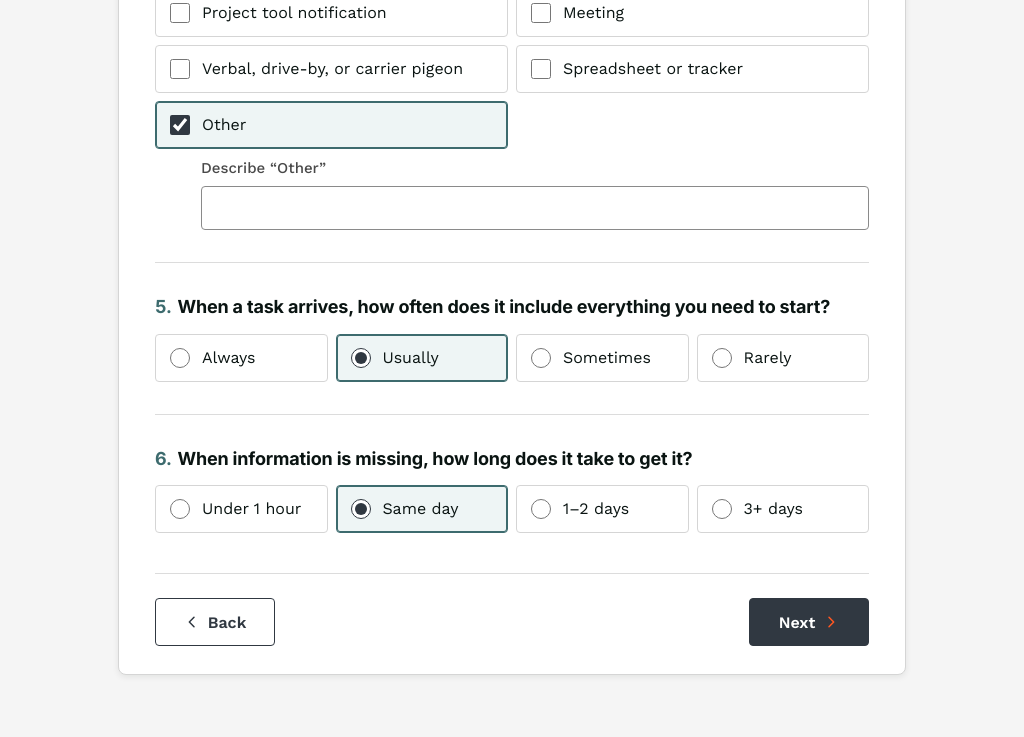
Test case: required questions › requires text for the Other option
(page scrolled)
Click the button "Next" at [809, 622], box [749, 598, 869, 646]
(page scrolled)
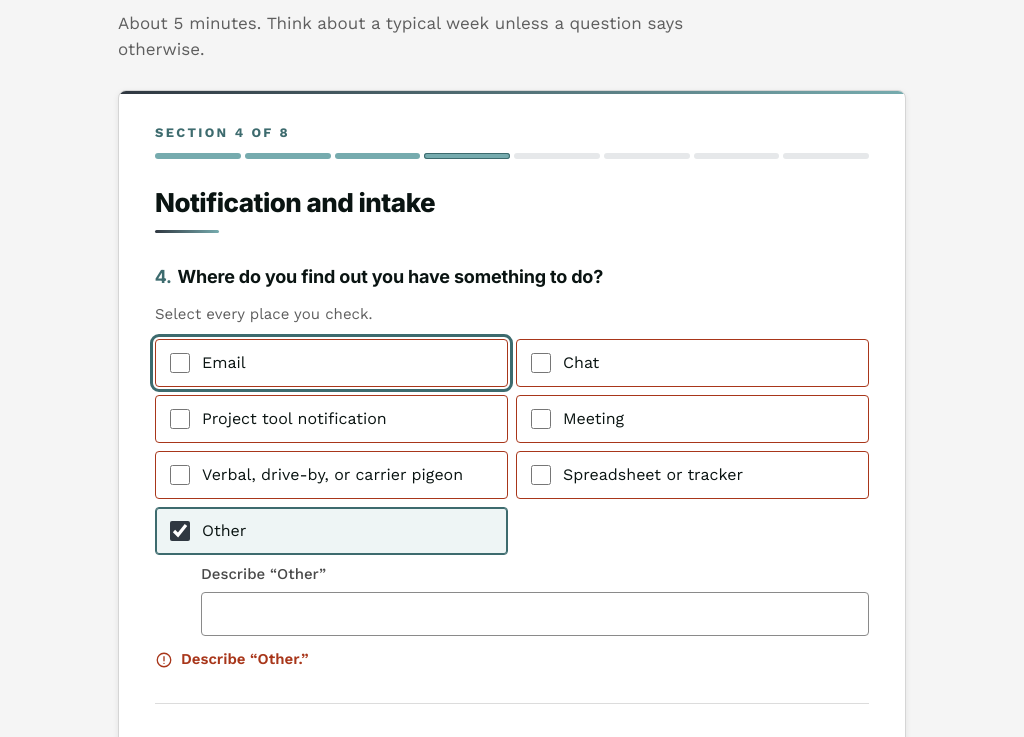
Result: the text "Describe “Other.”" is shown at [155, 650, 308, 669]
Type "Jira" into the field labelled "Describe “Other”" at [535, 614], box [201, 592, 869, 636]
(page scrolled)
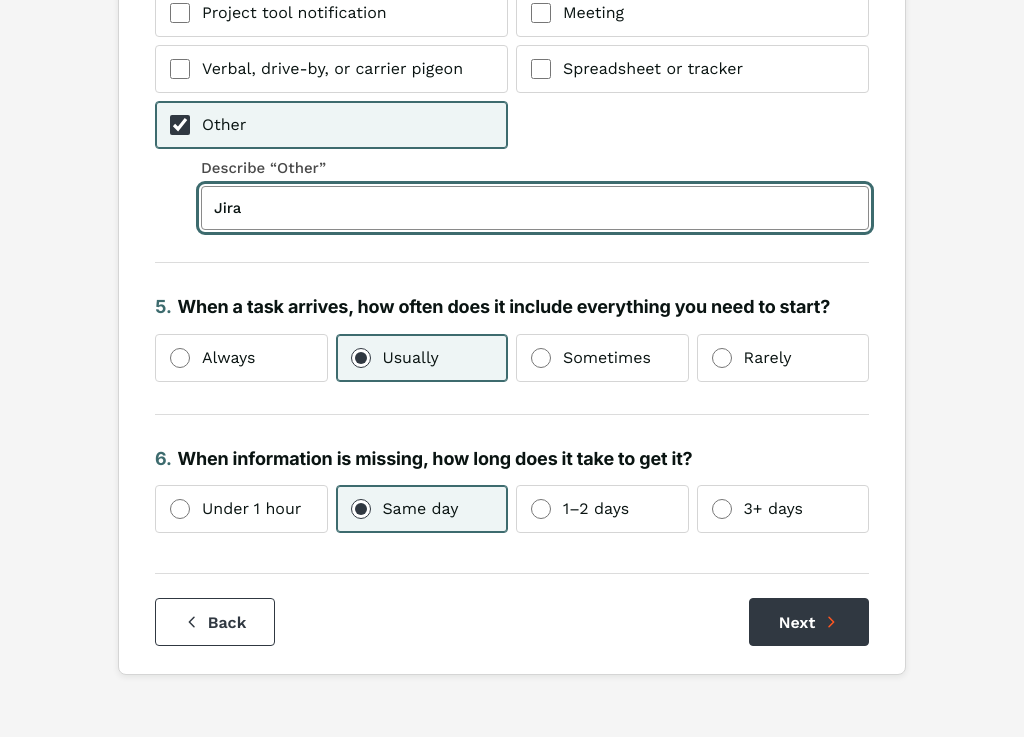
Click the button "Next" at [809, 622], box [749, 598, 869, 646]
(page scrolled)
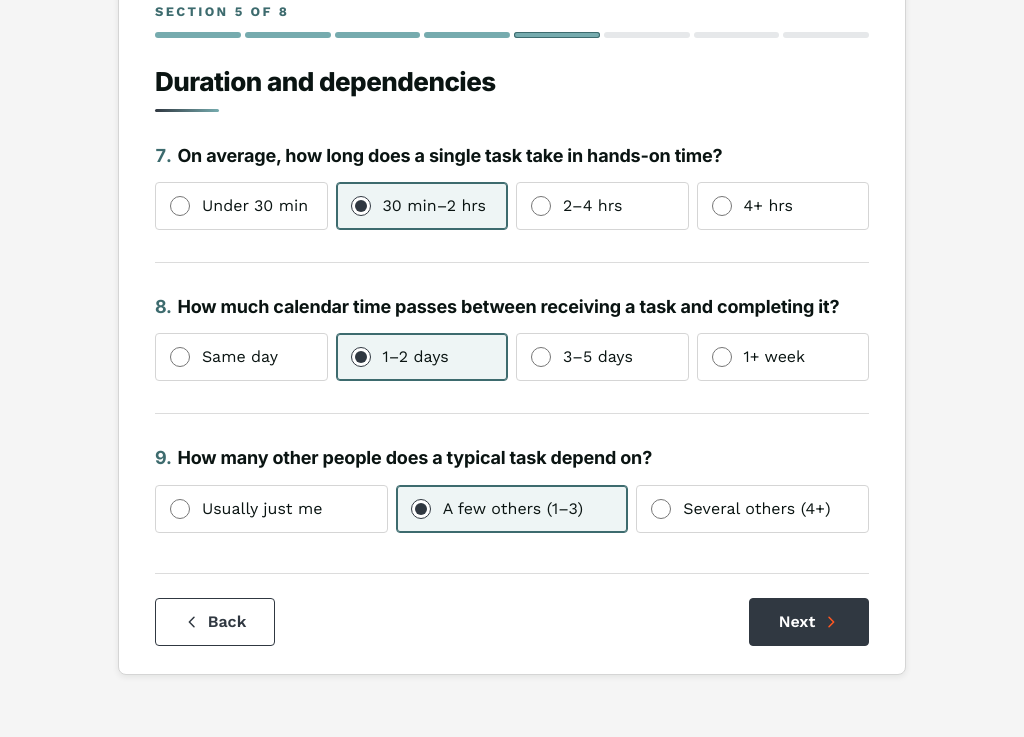
Result: the heading reads "Duration and dependencies" at [155, 66, 496, 96]
